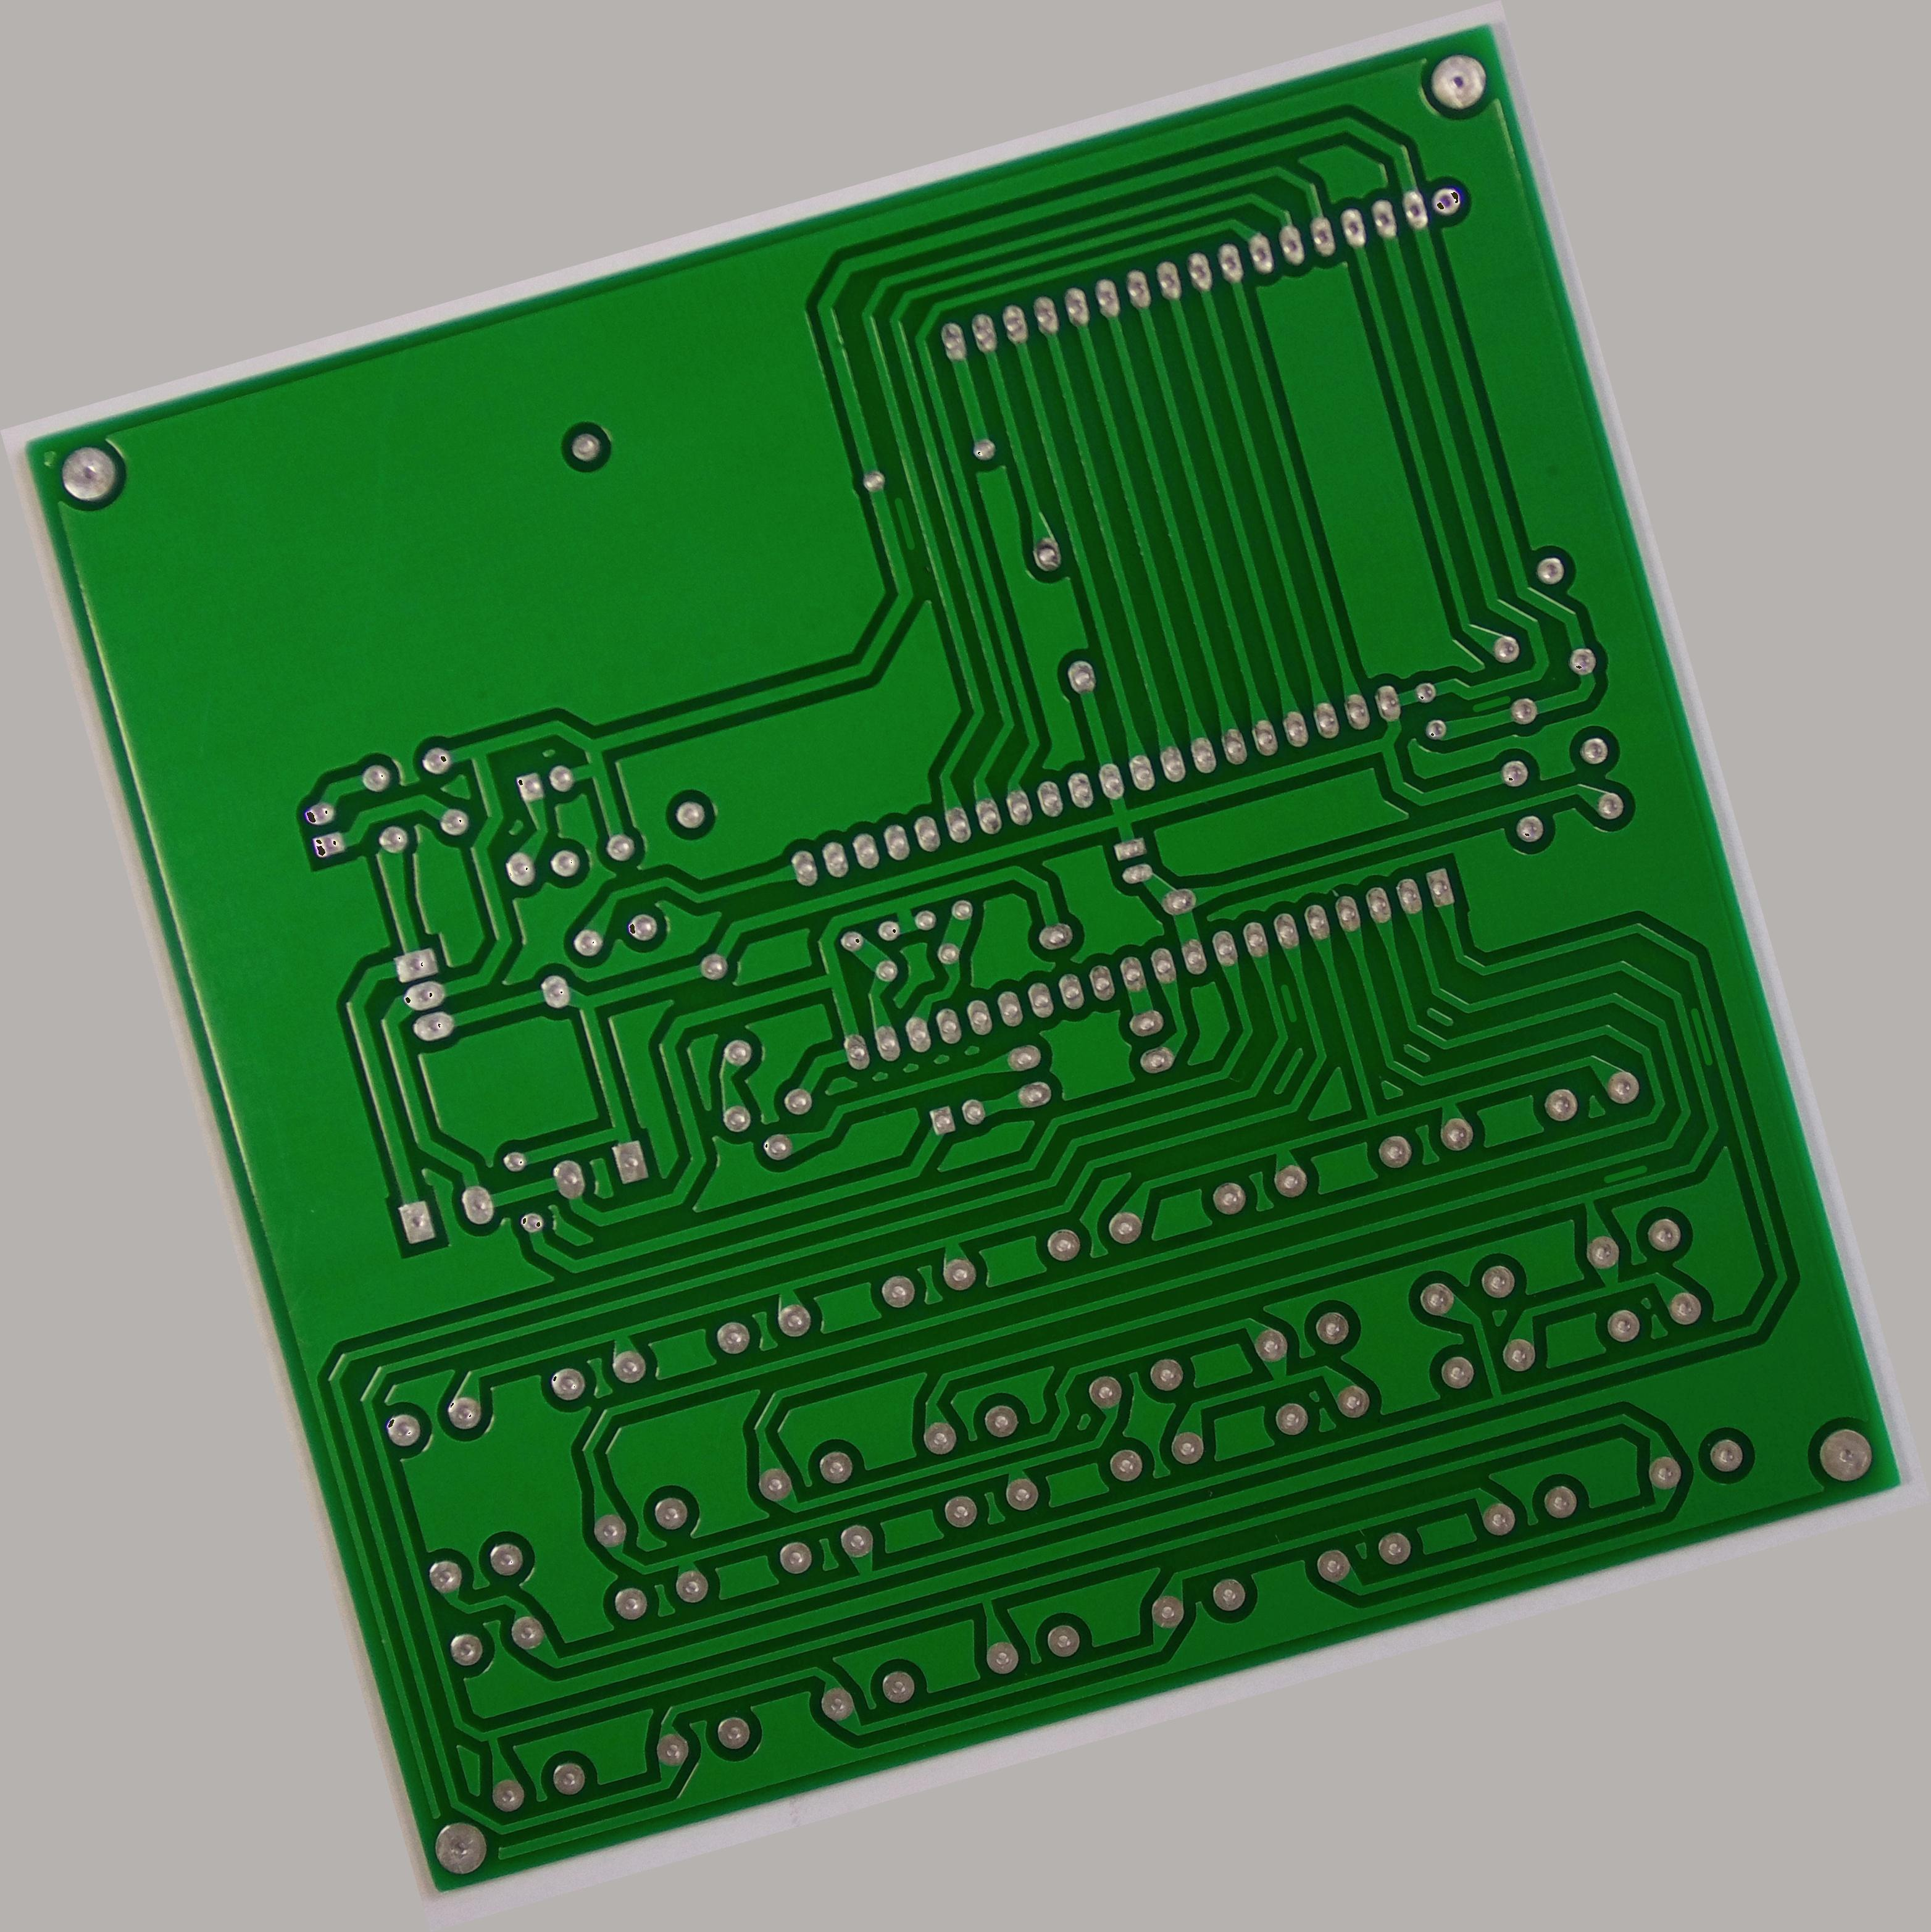spurious_copper: (1671, 994, 1726, 1079), (877, 485, 932, 557), (1457, 678, 1524, 729), (1588, 1148, 1659, 1196), (1264, 966, 1314, 1033)
